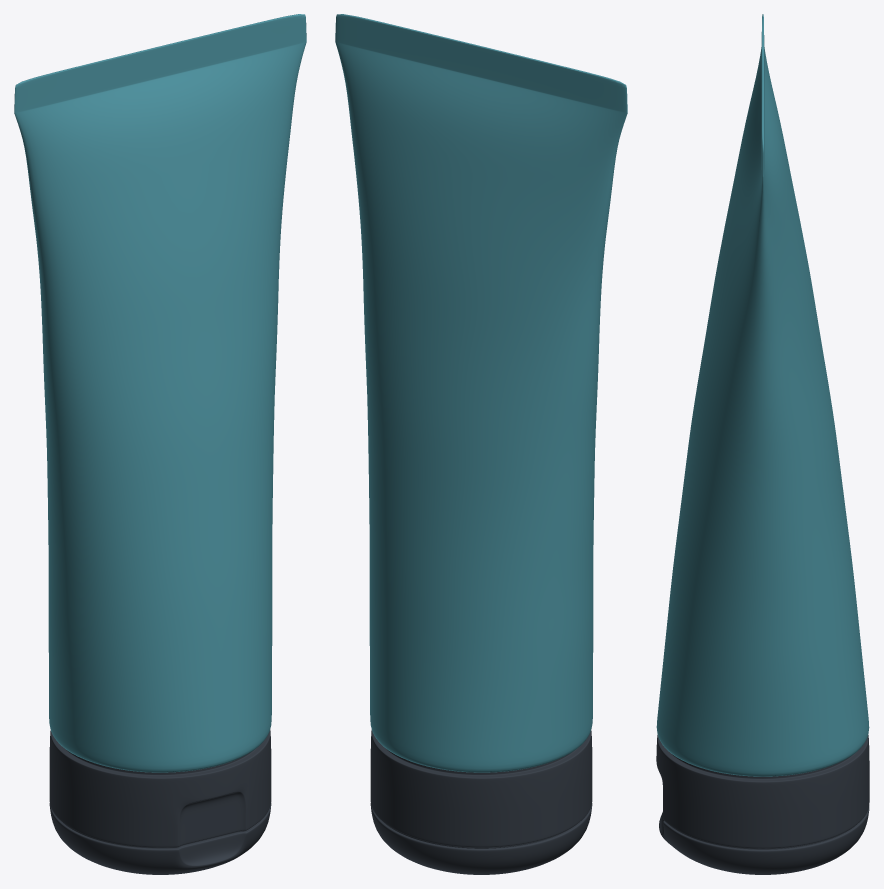
File: cosmetic-tube.glb
3 views of the same model, side by side, from view 1: azimuth 30°, elevation 25°; view 2: azimuth 150°, elevation 25°; view 3: azimuth 270°, elevation 25° (orthographic). The views are drawn at different scales.
Parts seen in each view (by area): view 1: base, cap; view 2: base, cap; view 3: base, cap.
Boxes of the visible parts, left/top/right/bottom form: base: left=14, top=14, right=306, bottom=772; cap: left=49, top=729, right=271, bottom=874; base: left=335, top=14, right=627, bottom=772; cap: left=370, top=729, right=592, bottom=874; base: left=656, top=14, right=869, bottom=776; cap: left=656, top=735, right=869, bottom=874.
Bounding box in the file's own units: 1.69 × 4.41 × 1.11.
